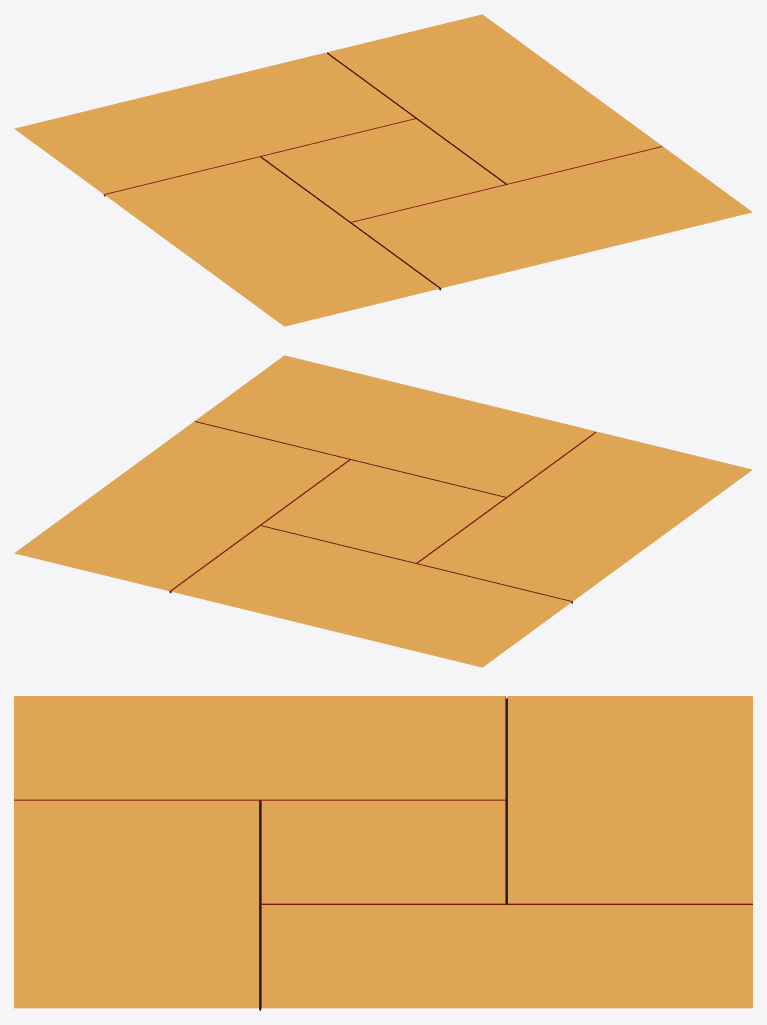
The model's file is Floor.dae.
The picture shows the model from 3 angles, top to bottom: view 1: azimuth 30°, elevation 25°; view 2: azimuth 150°, elevation 25°; view 3: azimuth 270°, elevation 25°; orthographic projection. The views are drawn at different scales.
Visible parts, largest first — view 1: Floor; view 2: Floor; view 3: Floor.
Boxes of the visible parts, x1,y1,x2,y2 form: Floor: (14,14,752,326); Floor: (14,355,752,667); Floor: (14,696,752,1010).
Size of the model in its own units: 2.73 by 2.73 by 0.01.
